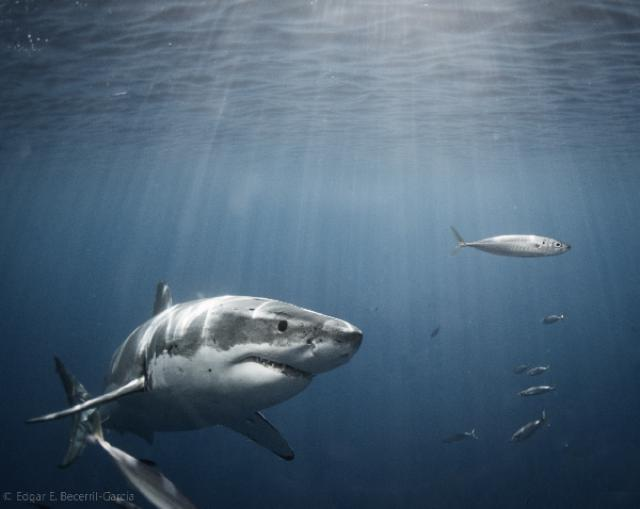Mulut: (222, 335, 331, 417)
Sirip Dada: (16, 359, 162, 436), (205, 394, 318, 476)
Sirip Ekor: (38, 347, 108, 481)
Sirip Punggung: (127, 268, 209, 330)
